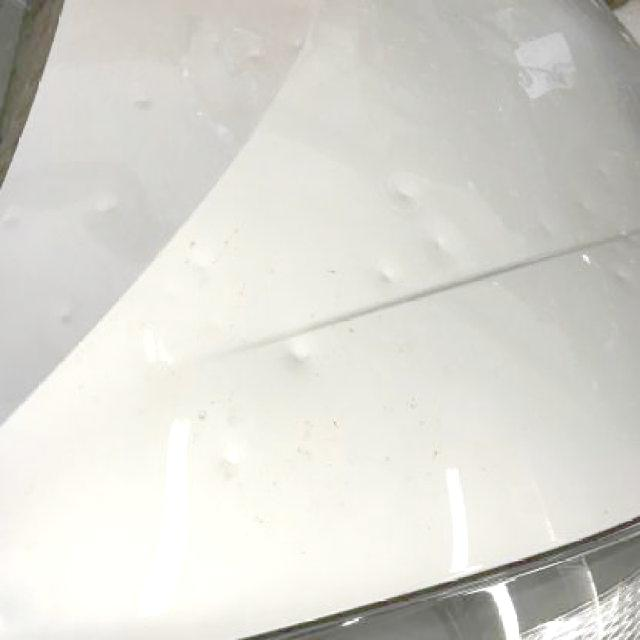dent: (388, 177, 423, 211), (215, 451, 241, 480), (286, 343, 311, 366), (89, 194, 115, 216), (429, 233, 452, 256), (0, 208, 25, 229), (192, 257, 210, 285), (377, 262, 397, 287), (58, 302, 77, 328), (610, 268, 627, 287), (538, 220, 554, 239), (576, 199, 592, 213)
